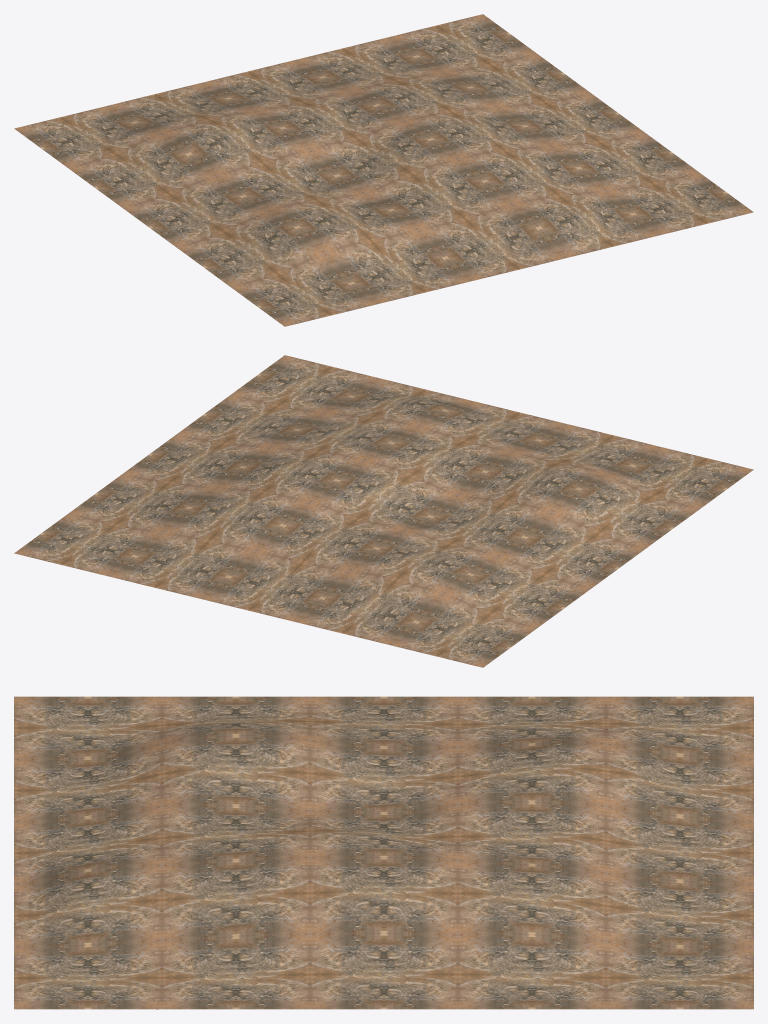
The model's file is land.dae.
3 renders of one model, top to bottom at view 1: azimuth 30°, elevation 25°; view 2: azimuth 150°, elevation 25°; view 3: azimuth 270°, elevation 25°, orthographic. The views are drawn at different scales.
Parts seen in each view (by area): view 1: Mesh_Object; view 2: Mesh_Object; view 3: Mesh_Object.
Part boxes in pixels (x1,y1,x2,y2): Mesh_Object: (14, 14, 753, 326); Mesh_Object: (14, 355, 753, 667); Mesh_Object: (14, 696, 753, 1009).
Size of the model in its own units: 1000 by 40.07 by 1000.
